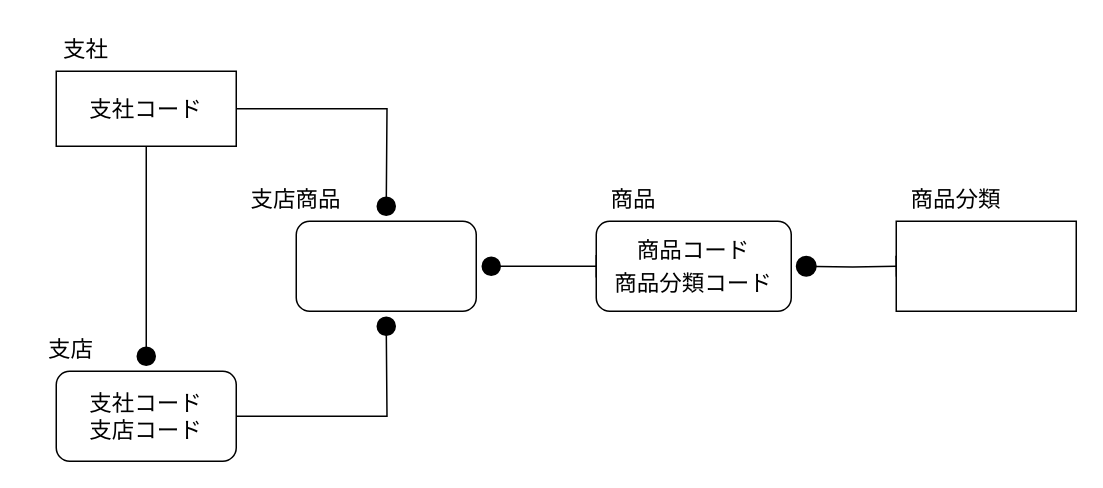
This 1103x488 diagram has some shape labels left out. Each missing label, with the box of its shape:
商品分類コード: (895, 220, 1076, 311)
支社コード 支店コード 商品コード: (295, 220, 476, 311)
